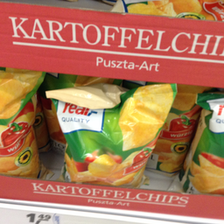chips: (44, 81, 178, 186), (1, 72, 41, 178)
